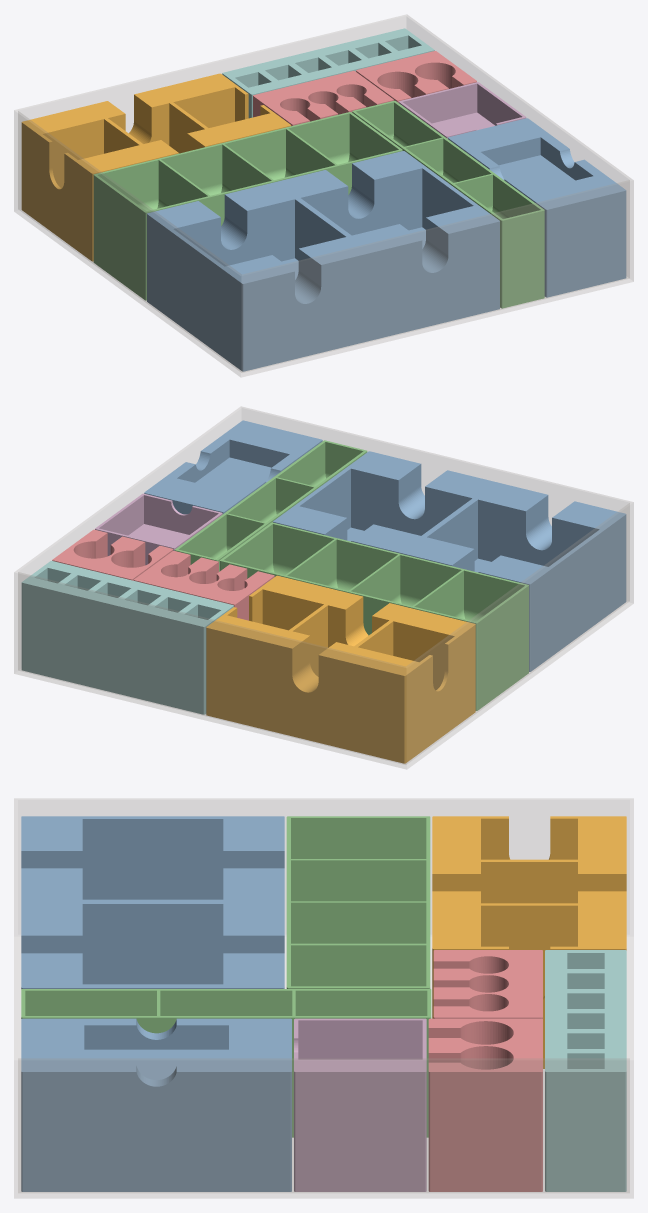
The model's file is organizer.glb.
3 renders of one model, top to bottom at view 1: azimuth 30°, elevation 25°; view 2: azimuth 150°, elevation 25°; view 3: azimuth 270°, elevation 25°, orthographic. The views are drawn at different scales.
Visible parts, largest first — view 1: Game box (preview only), Market cards, Land tiles, Player pieces, Event cards, Resource cubes, Dice, Victory tokens, First player marker, Coins; view 2: Game box (preview only), Land tiles, Market cards, Dice, Player pieces, Event cards, Resource cubes, Victory tokens, First player marker, Coins; view 3: Game box (preview only), Event cards, Market cards, Player pieces, Land tiles, First player marker, Coins, Dice, Resource cubes, Victory tokens.
Boxes of the visible parts, x1,y1,x2,y2 form: Game box (preview only): [14, 14, 633, 377]; Market cards: [147, 151, 499, 371]; Land tiles: [21, 73, 291, 261]; Player pieces: [93, 112, 402, 300]; Event cards: [448, 118, 626, 297]; Resource cubes: [352, 100, 544, 308]; Dice: [222, 28, 434, 118]; Victory tokens: [253, 70, 393, 125]; First player marker: [398, 82, 526, 138]; Coins: [356, 51, 476, 102]; Game box (preview only): [14, 406, 633, 769]; Land tiles: [206, 575, 475, 763]; Market cards: [273, 451, 626, 671]; Dice: [21, 561, 233, 714]; Player pieces: [220, 522, 528, 710]; Event cards: [144, 420, 322, 514]; Resource cubes: [174, 440, 367, 571]; Victory tokens: [134, 551, 274, 620]; First player marker: [95, 493, 222, 565]; Coins: [52, 529, 173, 580]; Game box (preview only): [14, 798, 633, 1198]; Event cards: [21, 1018, 291, 1191]; Market cards: [21, 816, 284, 988]; Player pieces: [286, 816, 430, 988]; Land tiles: [432, 816, 626, 1068]; First player marker: [294, 1018, 426, 1191]; Coins: [428, 1018, 542, 1191]; Dice: [545, 950, 626, 1191]; Resource cubes: [21, 989, 431, 1137]; Victory tokens: [433, 950, 542, 1018].
Size of the model in its own units: 0.3 by 0.074 by 0.3.
